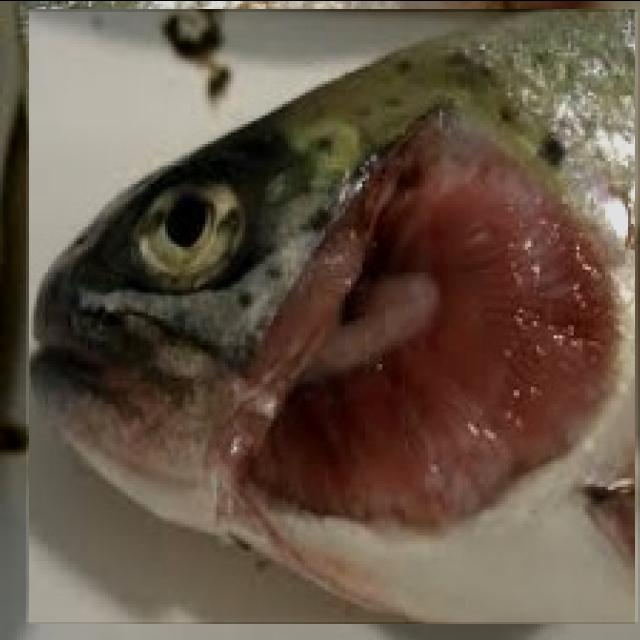Gill Disease: (26, 11, 638, 621)
